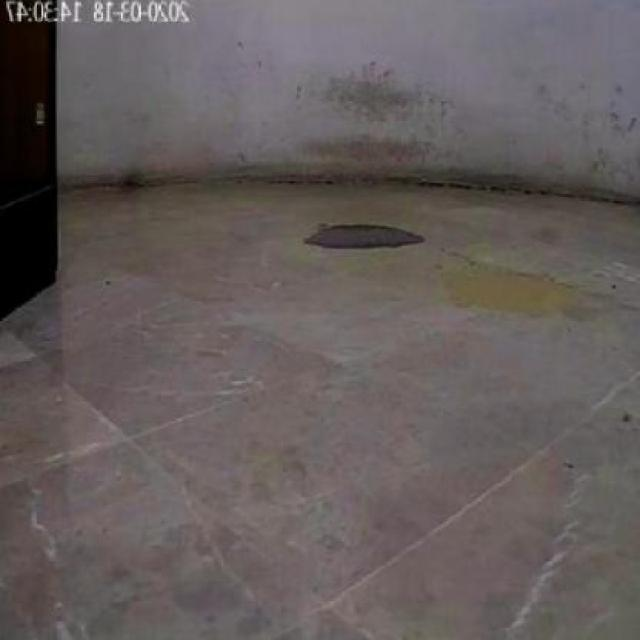spillage: (305, 224, 427, 250)
